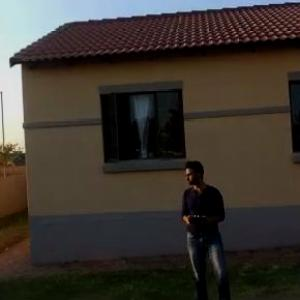follow: (172, 161, 231, 299)
